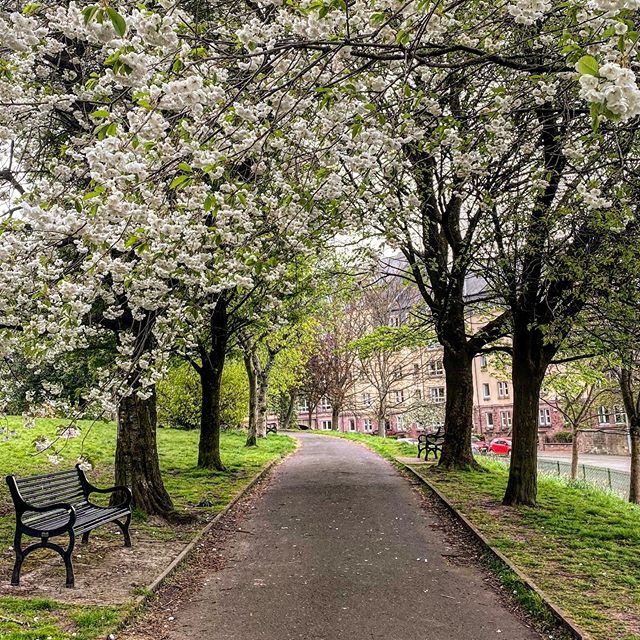bench: (1, 446, 143, 597)
building: (359, 285, 632, 446)
street: (156, 438, 603, 640)
vegetation: (1, 1, 639, 355)
